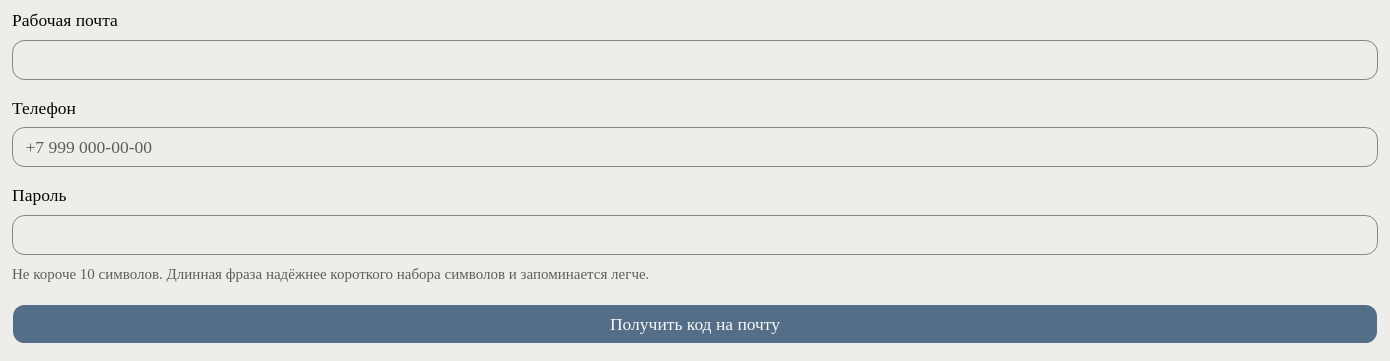
Test: регистрация по почте: экран кода › «Указать другую почту» возвращает форму с телефоном и паролем, а не пустую
Type "a@firma.ru" into the field labelled "Рабочая почта" at (695, 60), box [12, 40, 1378, 80]
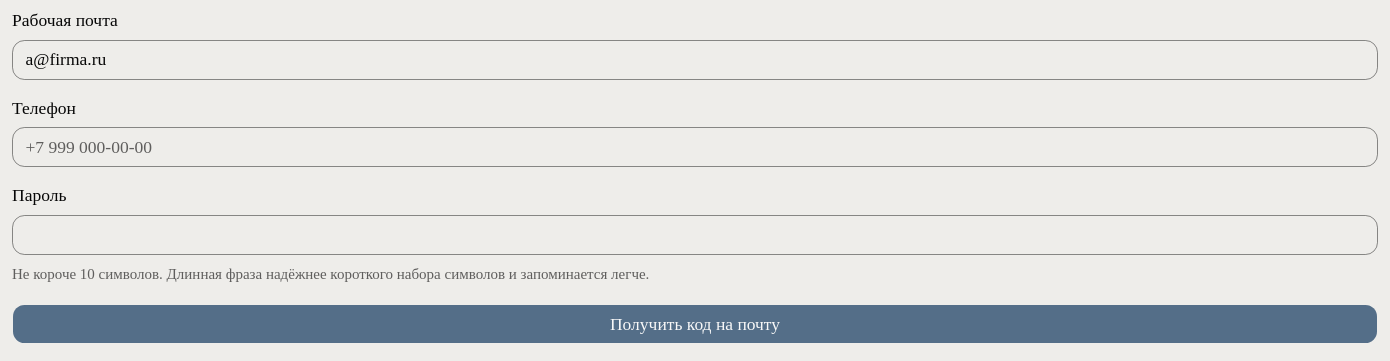
Type "+7 900 123-45-67" into the field labelled "Телефон" at (695, 147), box [12, 127, 1378, 167]
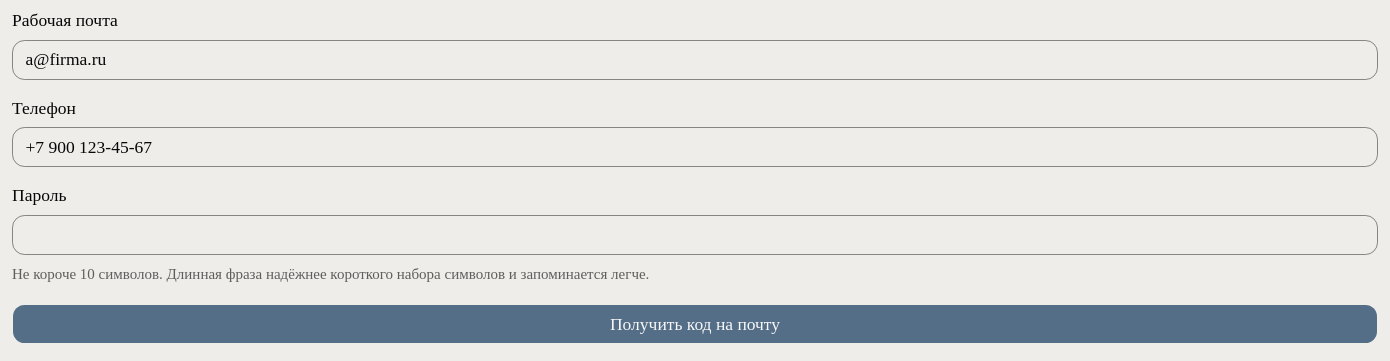
Type "длинная фраза 123" into the password field labelled "Пароль" at (695, 234), box [12, 214, 1378, 254]
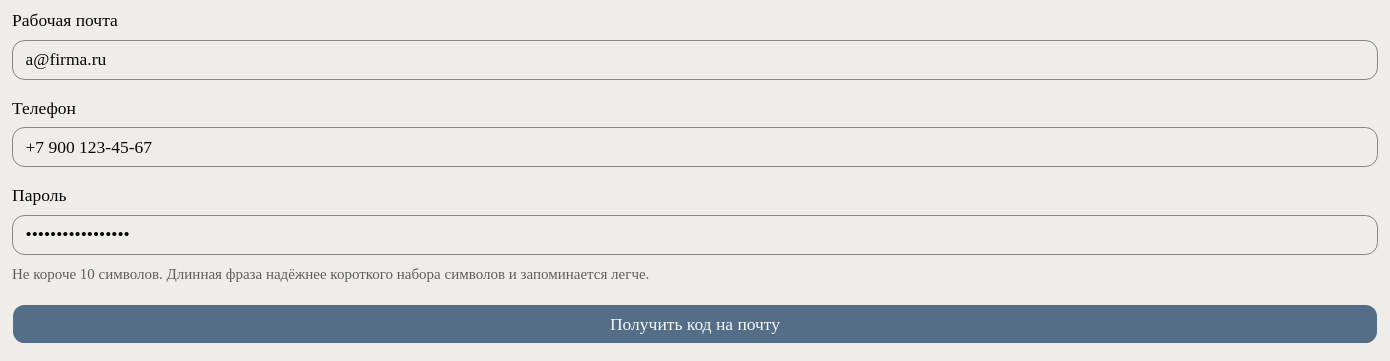
Submit the form labelled "Рабочая почта"
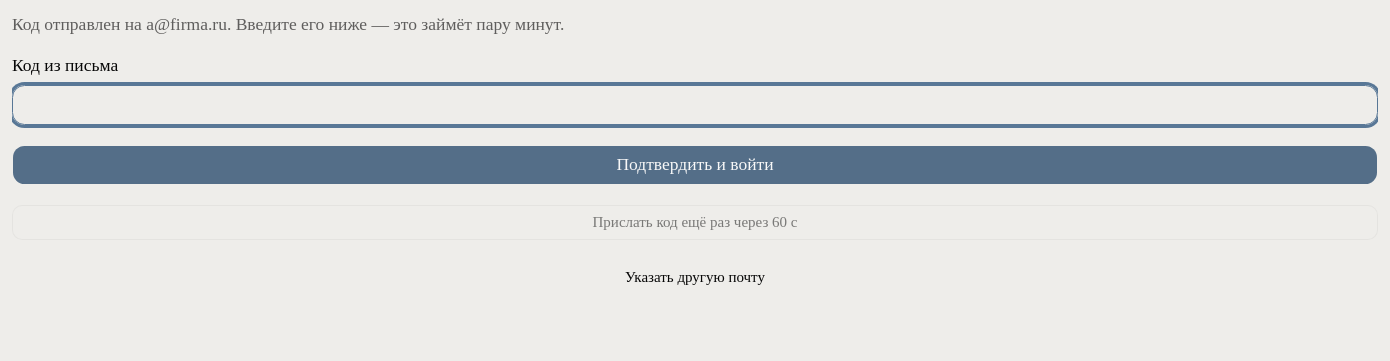
Result: the field labelled "Код из письма" is shown at [12, 84, 1378, 124]
Click the button "Указать другую почту" at (695, 278), box [12, 260, 1378, 296]
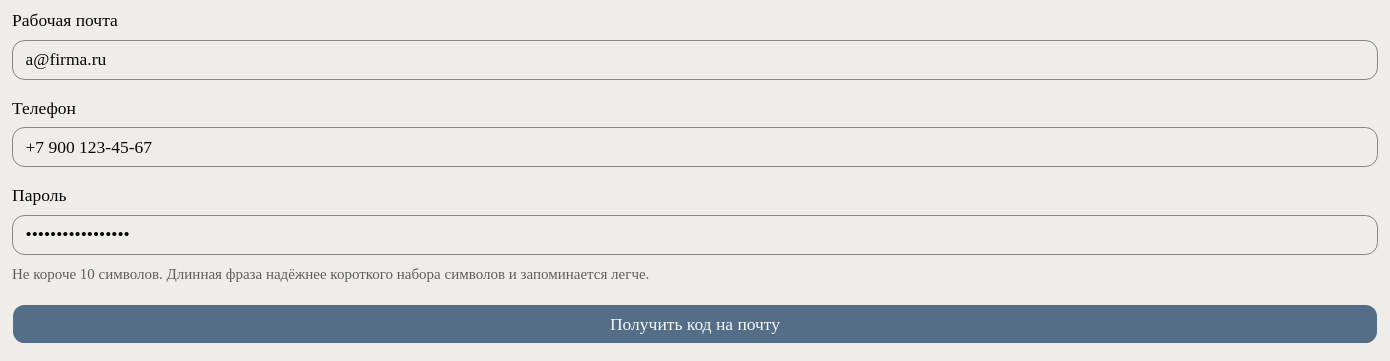
Result: the field labelled "Телефон" holds "+7 900 123-45-67" at [12, 127, 1378, 167]
Result: the password field labelled "Пароль" holds "длинная фраза 123" at [12, 214, 1378, 254]
